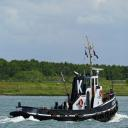tugboat: (9, 67, 120, 127)
